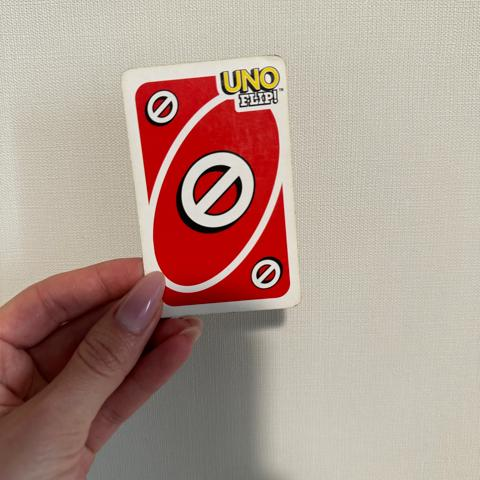2_red: (172, 150, 257, 235), (142, 90, 183, 127), (247, 257, 285, 292)
